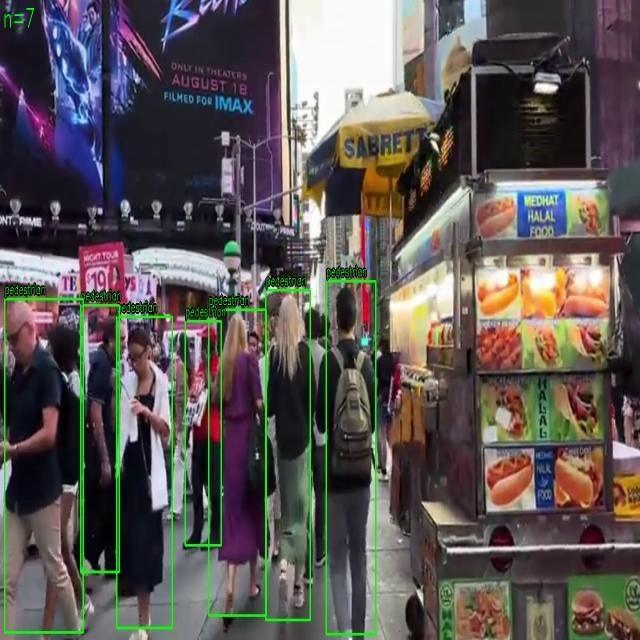person: (5, 299, 84, 633), (208, 309, 266, 616), (326, 281, 376, 635), (116, 316, 172, 628), (266, 290, 310, 620), (80, 304, 120, 572), (184, 321, 222, 546)
